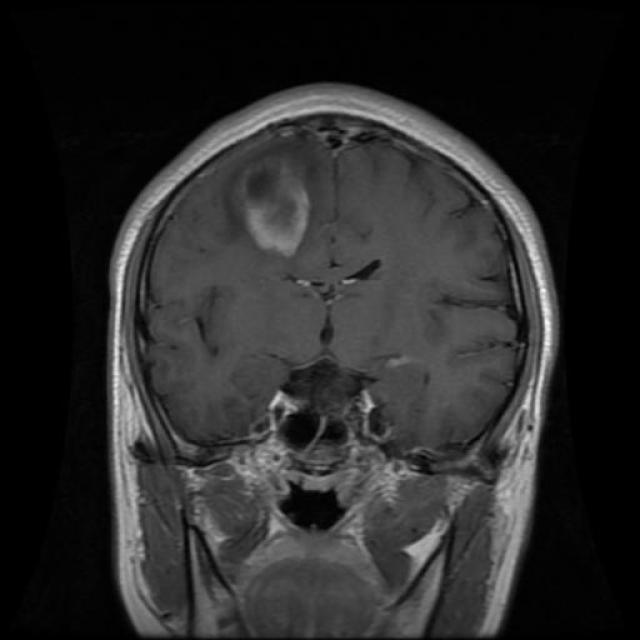glioma: (235, 161, 319, 261)
